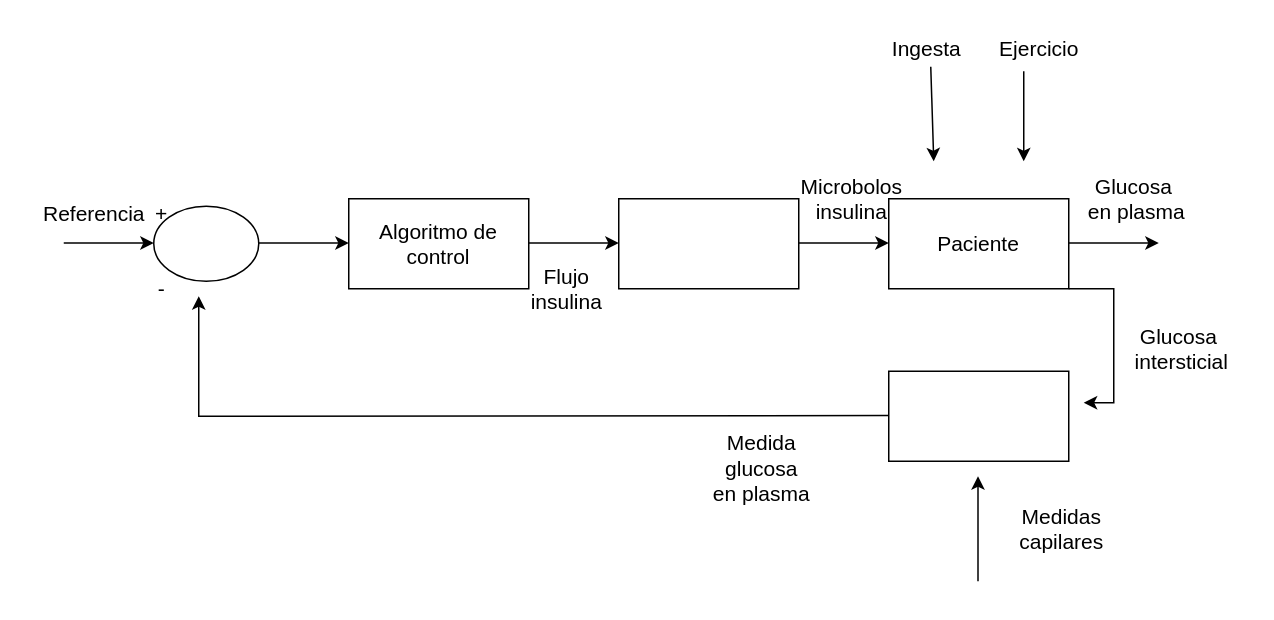
Image size: 1274x620. Some labels were removed from this diagram. Each missing label, with the box of its shape:
Bomba de insulina externa: (617, 197, 799, 289)
Monitor continuo de glucosa: (887, 370, 1069, 461)
